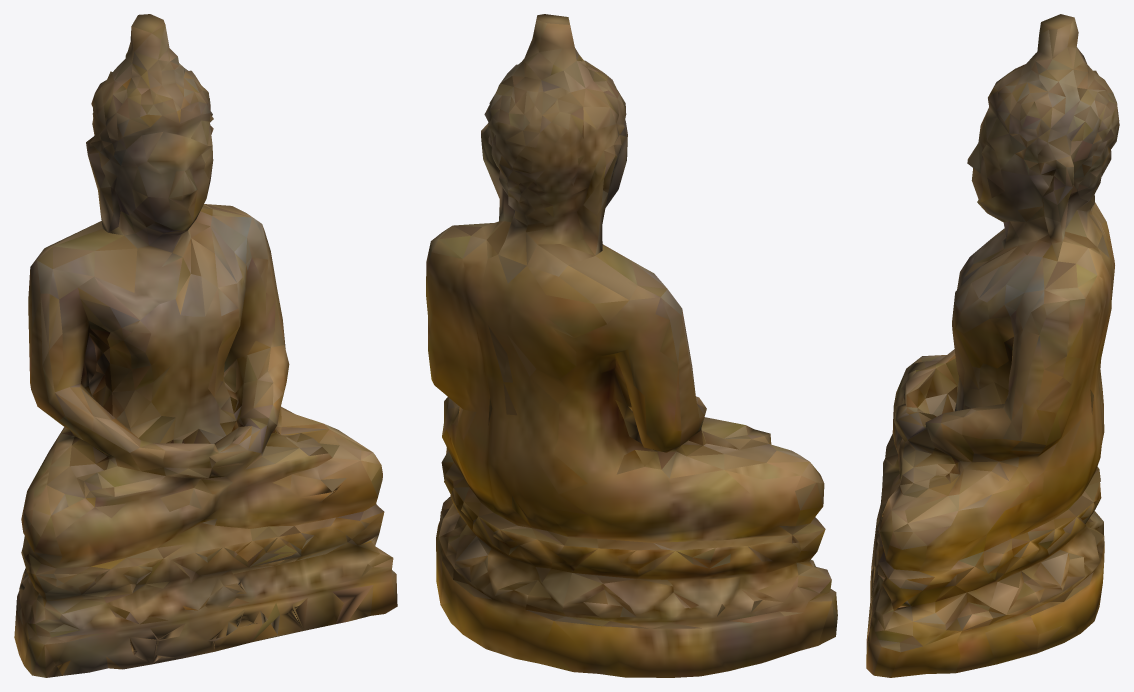
The model's file is far.glb.
The picture shows the model from 3 angles, left to right: view 1: azimuth 30°, elevation 25°; view 2: azimuth 150°, elevation 25°; view 3: azimuth 270°, elevation 25°; orthographic projection. The views are drawn at different scales.
Visible parts, largest first — view 1: statue-011; view 2: statue-011; view 3: statue-011.
Part boxes in pixels (x1,y1,x2,y2): statue-011: (14,14,397,677); statue-011: (426,14,837,677); statue-011: (866,14,1119,677).
Bounding box in the file's own units: 0.6457 × 0.9996 × 0.3952.
1 material, 1 textured.
